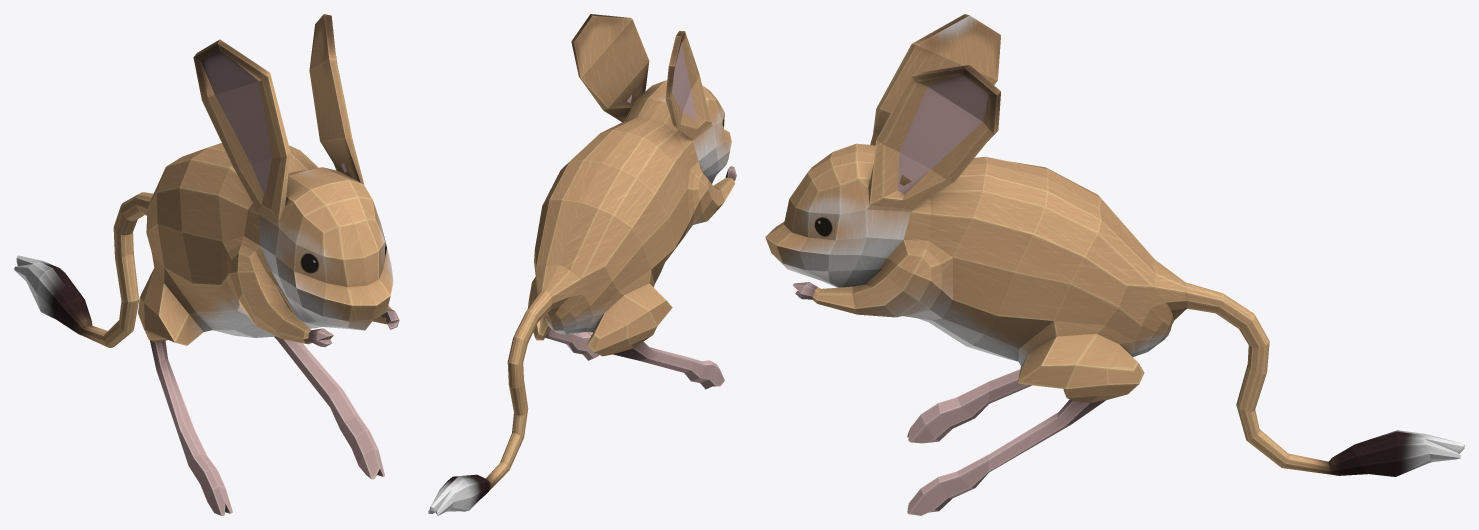
File: Jerboa.obj
3 views of the same model, side by side, from view 1: azimuth 30°, elevation 25°; view 2: azimuth 150°, elevation 25°; view 3: azimuth 270°, elevation 25° (orthographic). The views are drawn at different scales.
Parts seen in each view (by area): view 1: Jerboa_mesh; view 2: Jerboa_mesh; view 3: Jerboa_mesh.
Boxes of the visible parts, bbox=[...] form: Jerboa_mesh: bbox=[14, 14, 399, 515]; Jerboa_mesh: bbox=[428, 14, 736, 515]; Jerboa_mesh: bbox=[765, 14, 1464, 515].
Size of the model in its own units: 3.2 by 8.24 by 11.95.
1 material, 1 textured.
